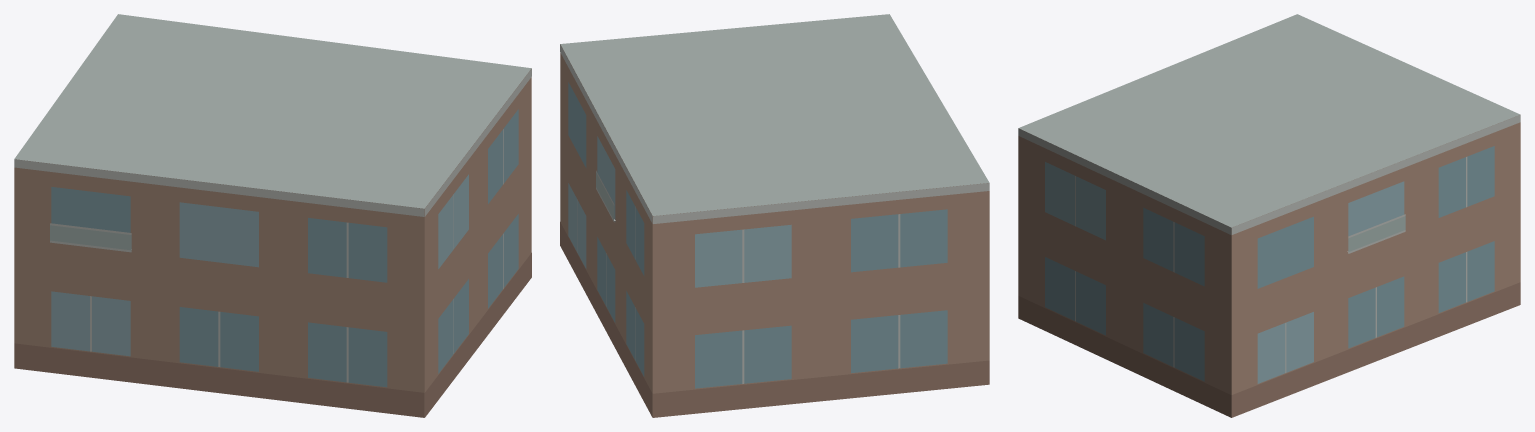
File: survey-upis-32718074.glb
3 renders of one model, left to right at view 1: azimuth 30°, elevation 25°; view 2: azimuth 150°, elevation 25°; view 3: azimuth 270°, elevation 25°, orthographic. The views are drawn at different scales.
Parts seen in each view (by area): view 1: survey-upis-32718074.tmp; view 2: survey-upis-32718074.tmp; view 3: survey-upis-32718074.tmp.
Boxes of the visible parts, left/top/right/bottom form: survey-upis-32718074.tmp: left=14, top=14, right=531, bottom=417; survey-upis-32718074.tmp: left=560, top=14, right=989, bottom=417; survey-upis-32718074.tmp: left=1018, top=14, right=1520, bottom=417.
Bounding box in the file's own units: 14.7 × 6.1 × 14.6.
